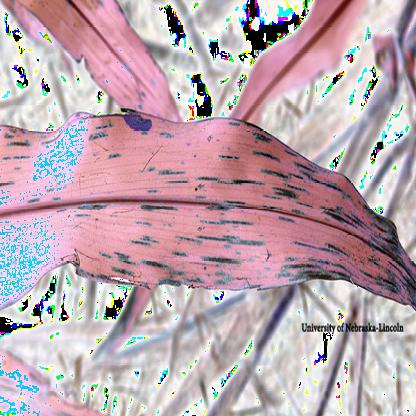corn leaf blight: (3, 110, 415, 319)
